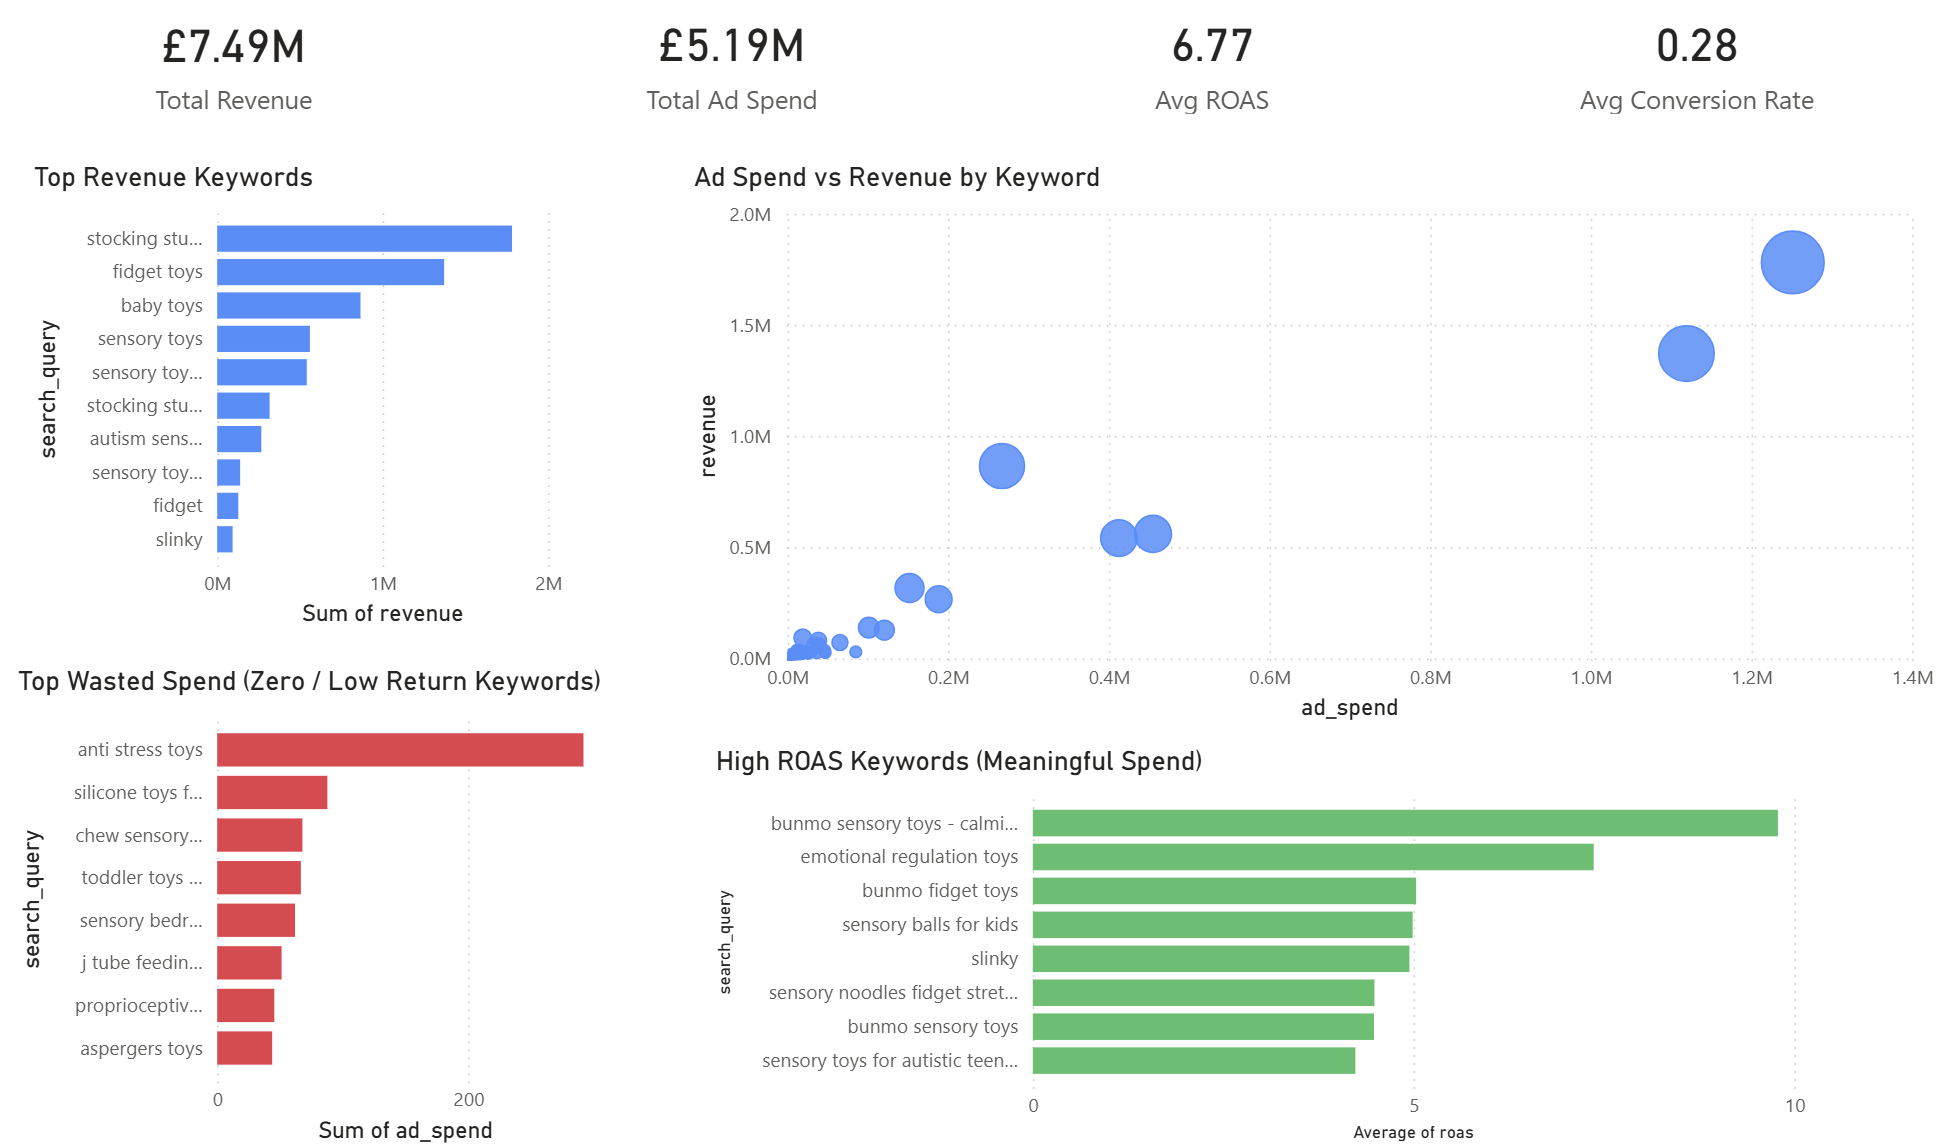

This screenshot's page, from the dashboard's own definition file:
{"tool":"powerbi","page":{"name":"Page 1","canvas":[1280,720],"ordinal":0},"visuals":[{"type":"card","fields":{"Values":["Sum(amazon_ads_summary.revenue)"]},"box":[10.7,0,260.3,78.1],"z":0},{"type":"card","fields":{"Values":["Sum(amazon_ads_summary.ad_spend)"]},"box":[310.8,0,300.1,78.1],"z":1000},{"type":"card","fields":{"Values":["Avg(amazon_ads_summary.roas)"]},"box":[610.9,0,300.1,78.1],"z":2000},{"type":"card","fields":{"Values":["Avg(amazon_ads_summary.conversion_rate)"]},"box":[911,0,306.2,78.1],"z":3000},{"type":"scatterChart","title":"Ad Spend vs Revenue by Keyword","fields":{"X":["amazon_ads_summary.ad_spend"],"Y":["amazon_ads_summary.revenue"],"Size":["Sum(amazon_ads_summary.revenue)"]},"box":[432.2,102,785.3,354.4],"z":4000},{"type":"barChart","title":"Top Revenue Keywords","fields":{"Category":["amazon_ads_summary.search_query"],"Y":["Sum(amazon_ads_summary.revenue)"]},"box":[20.4,102,340.4,295.8],"z":5000},{"type":"barChart","title":"High ROAS Keywords (Meaningful Spend)","fields":{"Category":["amazon_ads_summary.search_query"],"Y":["Avg(amazon_ads_summary.roas)"]},"box":[446.2,467.9,691,252.4],"z":6000},{"type":"barChart","title":"Top Wasted Spend (Zero / Low Return Keywords)","fields":{"Category":["amazon_ads_summary.search_query"],"Y":["Sum(amazon_ads_summary.ad_spend)"]},"box":[10.2,416.9,379.9,303.4],"z":7000}]}

Visuals, with their boxes on the page's 1280x720 design canvas (x1, y1, x2, y2). These are canvas units, not pixel positions in the 1952x1148 screenshot, which may show the page scaled, cropped or inside an application window:
card - Sum(amazon_ads_summary.revenue): select_region(11, 0, 271, 78)
card - Sum(amazon_ads_summary.ad_spend): select_region(311, 0, 611, 78)
card - Avg(amazon_ads_summary.roas): select_region(611, 0, 911, 78)
card - Avg(amazon_ads_summary.conversion_rate): select_region(911, 0, 1217, 78)
"Ad Spend vs Revenue by Keyword" scatterChart: select_region(432, 102, 1218, 456)
"Top Revenue Keywords" barChart: select_region(20, 102, 361, 398)
"High ROAS Keywords (Meaningful Spend)" barChart: select_region(446, 468, 1137, 720)
"Top Wasted Spend (Zero / Low Return Keywords)" barChart: select_region(10, 417, 390, 720)
